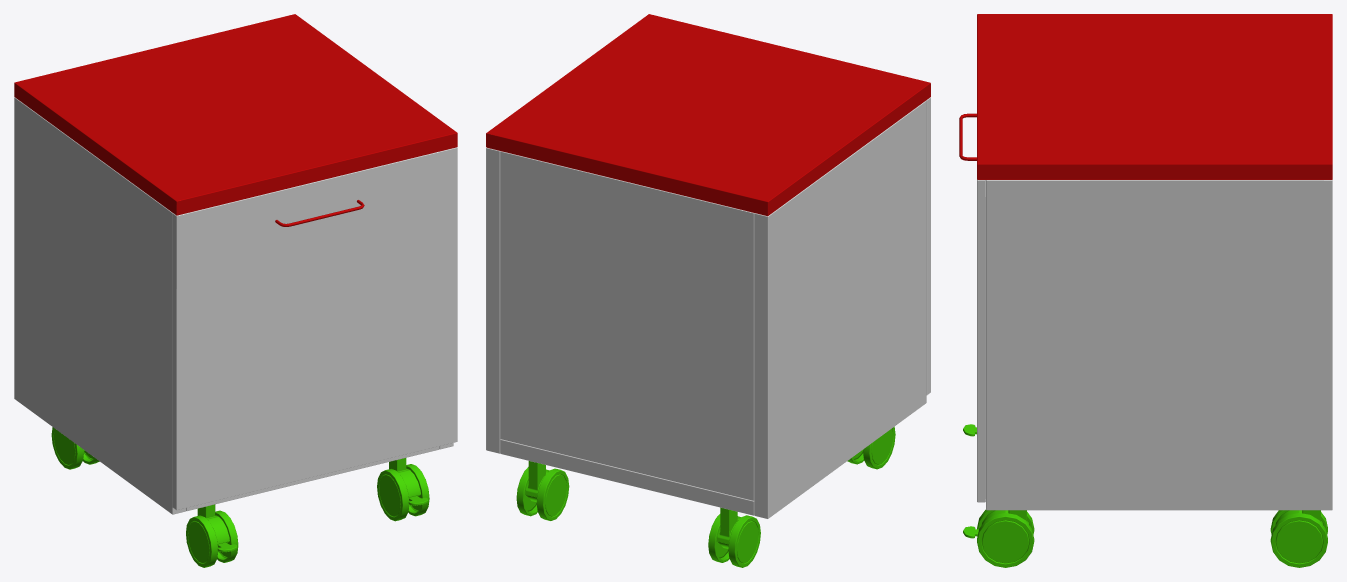
Rendered from UnderBench01d.fbx.
3 views of the same model, side by side, from view 1: azimuth 30°, elevation 25°; view 2: azimuth 150°, elevation 25°; view 3: azimuth 270°, elevation 25° (orthographic). The views are drawn at different scales.
Visible parts, largest first — view 1: UnderBench01d, Drawer01; view 2: UnderBench01d, Drawer01; view 3: UnderBench01d, Drawer01.
Boxes of the visible parts, x1,y1,x2,y2 form: UnderBench01d: (14, 14, 457, 567); Drawer01: (172, 147, 457, 510); UnderBench01d: (486, 14, 930, 567); Drawer01: (926, 97, 930, 394); UnderBench01d: (963, 14, 1332, 567); Drawer01: (959, 113, 985, 502).
Size of the model in its own units: 50 by 52.5 by 65.
